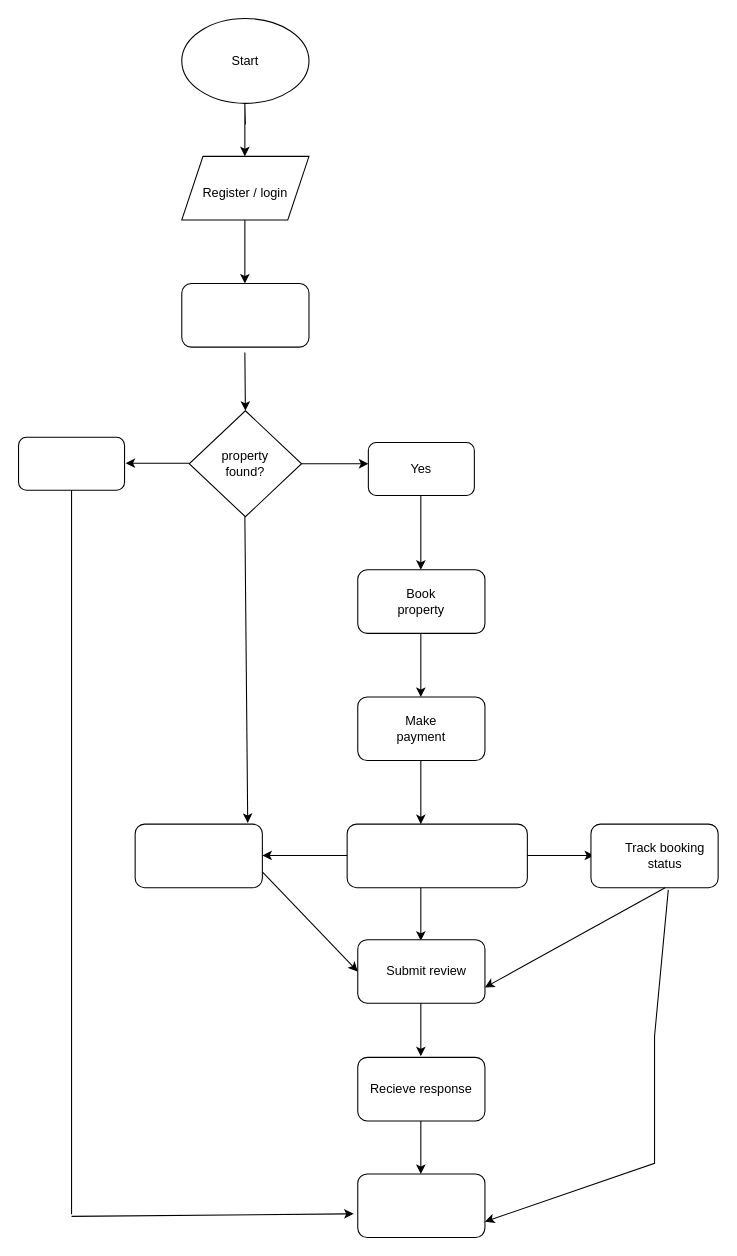
The diagram is 737 pixels wide and 1256 high, and some of its shapes have lost their labels. Here are the shapes that lost their labels. From the top down, the centre of each, then its label:
the point at 245,314: search property
the point at 71,463: No
the point at 198,855: Cancel booking
the point at 436,855: Recieve payment and booking confirmation Notifications
the point at 421,1205: Log Out
